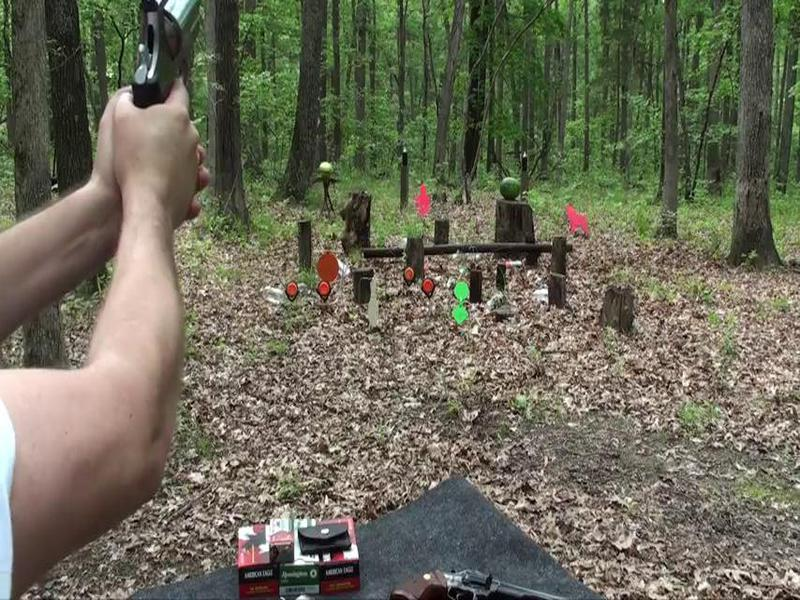Revolver: (108, 1, 243, 154)
